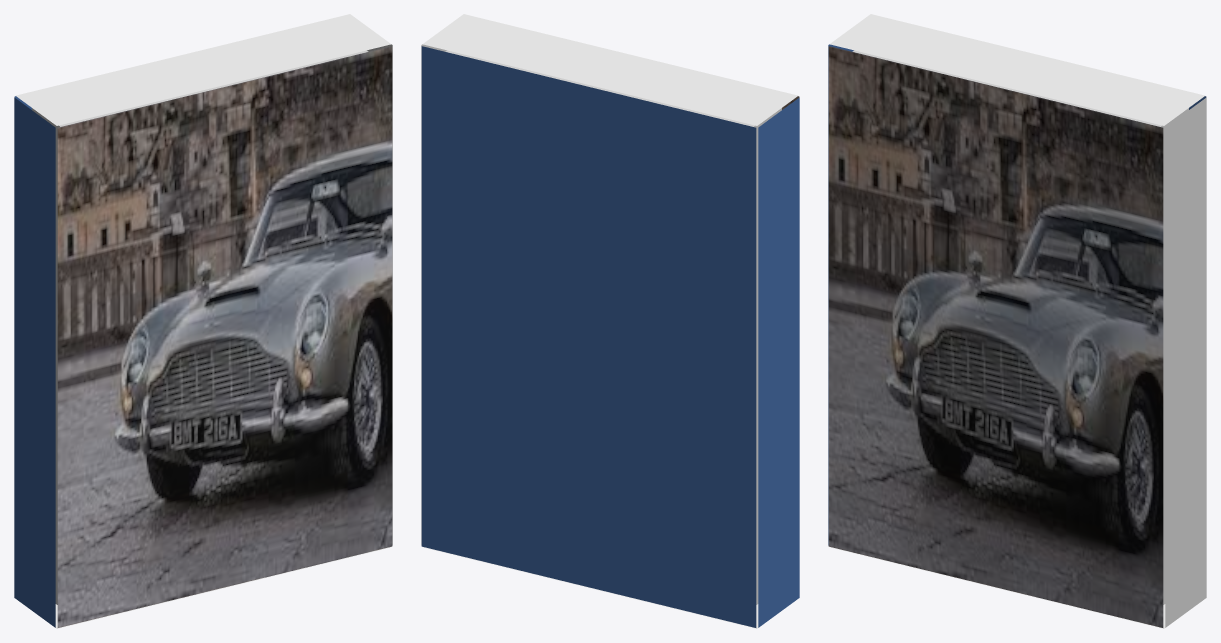
File: astonmartin.glb
3 views of the same model, side by side, from view 1: azimuth 30°, elevation 25°; view 2: azimuth 150°, elevation 25°; view 3: azimuth 330°, elevation 25° (orthographic).
Visible parts, largest first — view 1: Livre_Couverture_Avant, Livre_Dos, Tranche_Haut, Livre_Pages, Tranche_Droite; view 2: Livre_Couverture_Arriere, Livre_Dos, Tranche_Haut, Livre_Pages, Tranche_Droite; view 3: Livre_Couverture_Avant, Tranche_Droite, Tranche_Haut, Livre_Pages, Livre_Dos.
Boxes of the visible parts, left/top/right/bottom form: Livre_Couverture_Avant: left=57, top=46, right=392, bottom=627; Livre_Dos: left=14, top=97, right=55, bottom=627; Tranche_Haut: left=16, top=14, right=390, bottom=125; Livre_Pages: left=32, top=50, right=368, bottom=604; Tranche_Droite: left=367, top=44, right=392, bottom=545; Livre_Couverture_Arriere: left=421, top=46, right=756, bottom=627; Livre_Dos: left=758, top=97, right=799, bottom=627; Tranche_Haut: left=423, top=14, right=797, bottom=125; Livre_Pages: left=445, top=50, right=781, bottom=604; Tranche_Droite: left=421, top=44, right=446, bottom=545; Livre_Couverture_Avant: left=828, top=46, right=1163, bottom=627; Tranche_Droite: left=1165, top=97, right=1206, bottom=627; Tranche_Haut: left=830, top=14, right=1204, bottom=125; Livre_Pages: left=852, top=50, right=1188, bottom=604; Livre_Dos: left=828, top=44, right=853, bottom=545.
Size of the model in its own units: 1.41 by 2.01 by 0.31.
7 materials, 1 textured.
